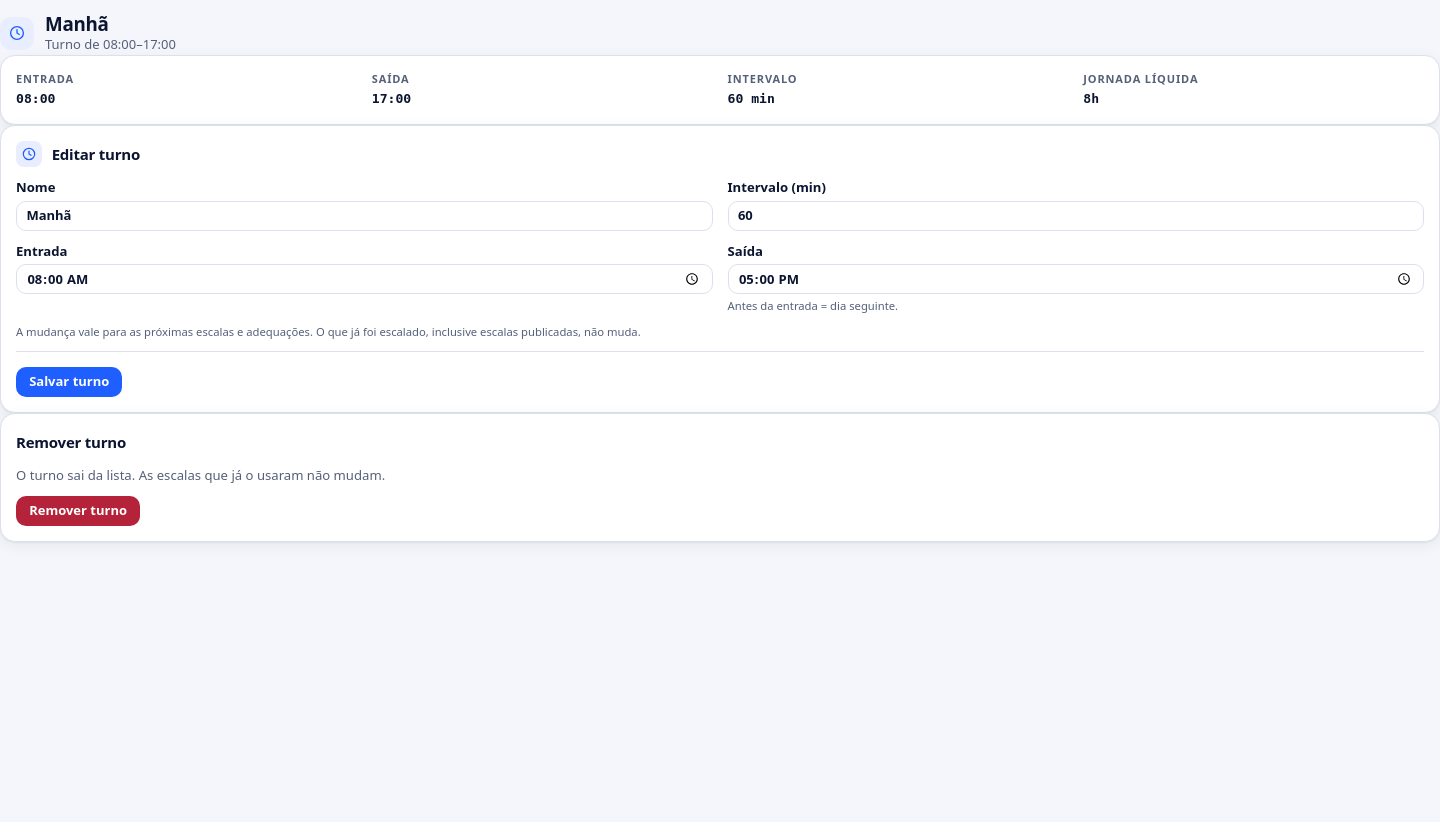
Test: tela do turno › cancelar a remoção não arquiva; erro ao remover aparece na tela
This screenshot has width=1440, height=822.
Click the button "Remover turno" at [78, 511], box [16,496,140,526]
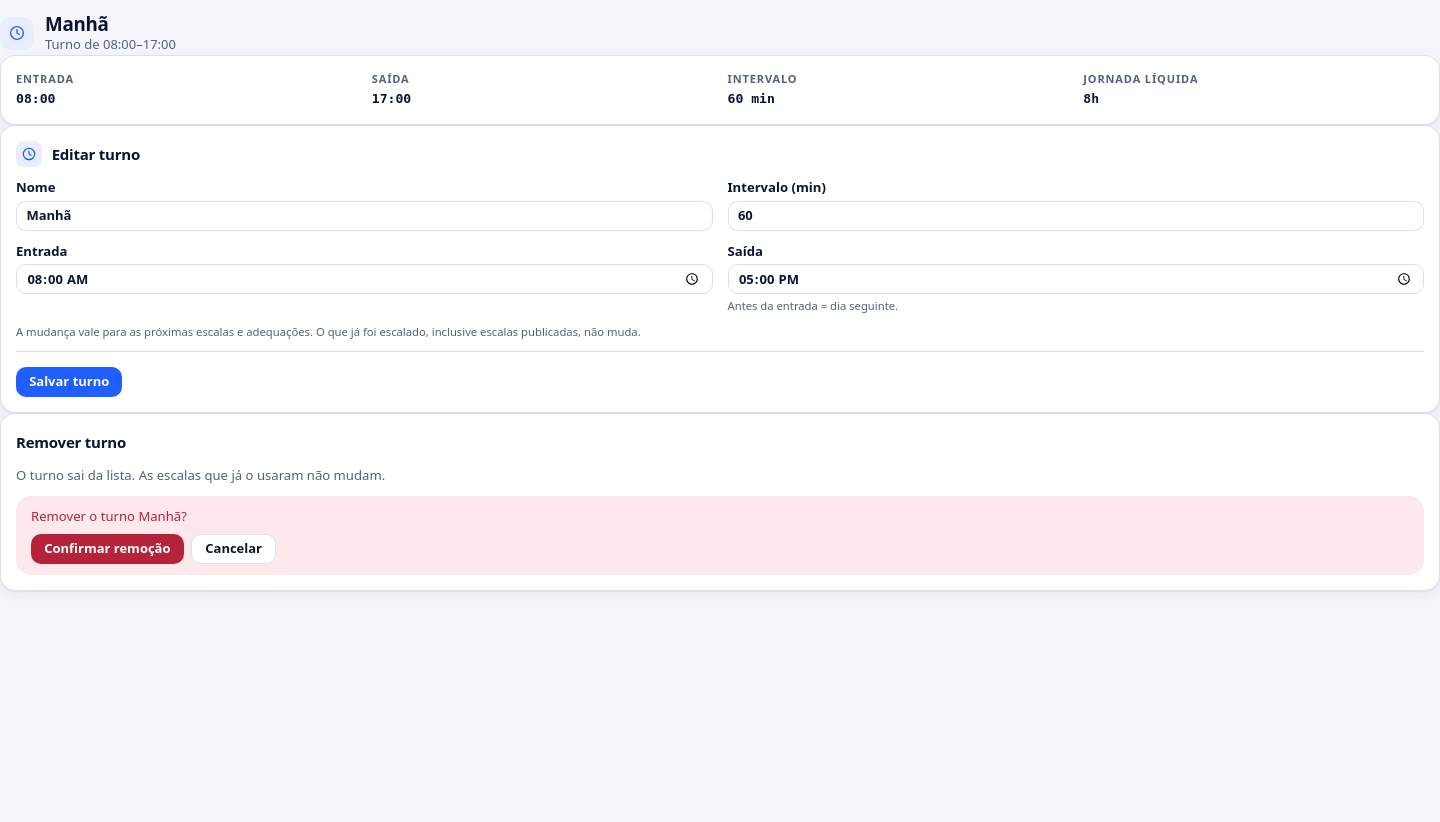
Click the button "Cancelar" at [234, 549], box [191,534,276,564]
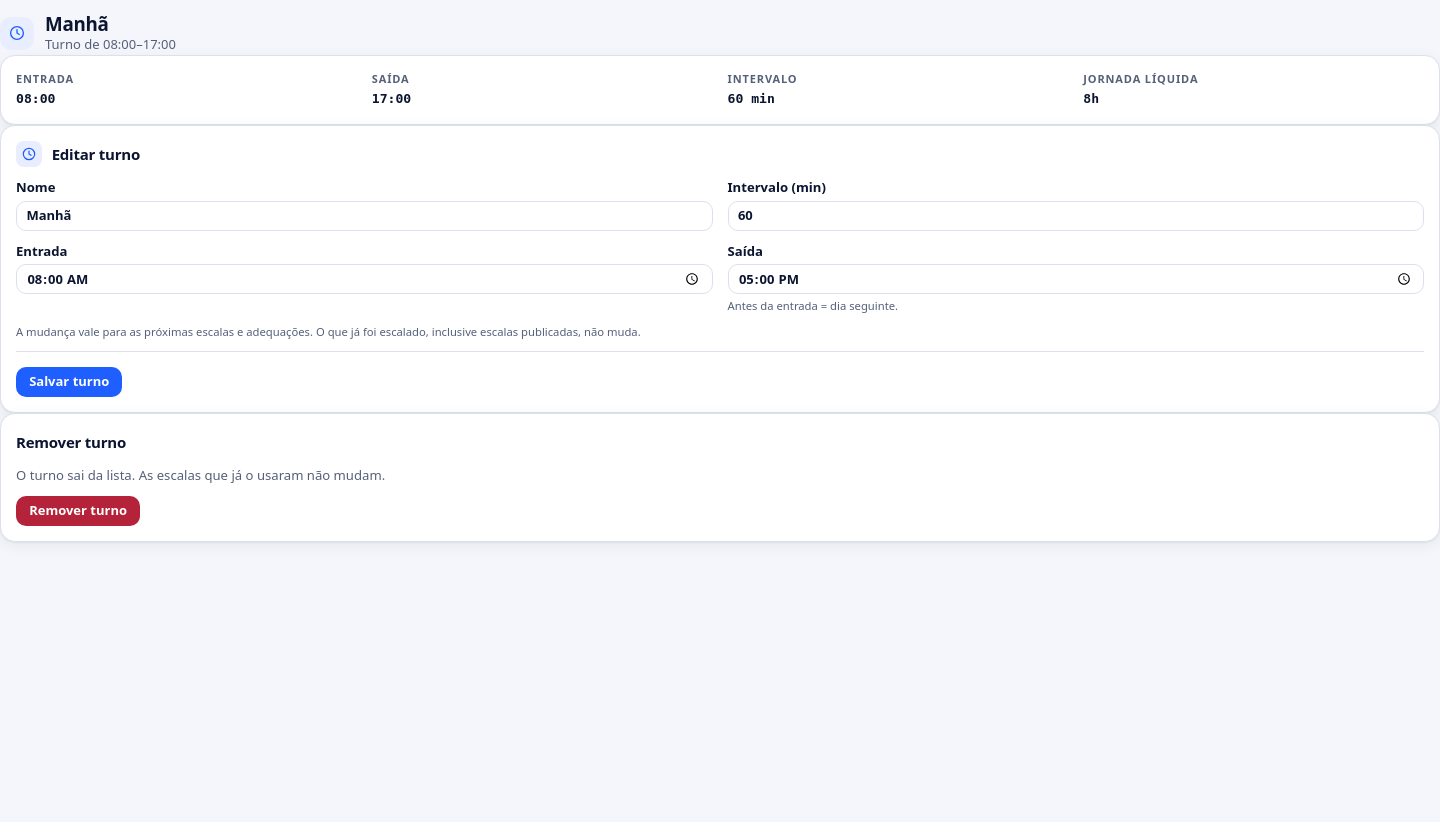
Click the button "Remover turno" at [78, 511], box [16,496,140,526]
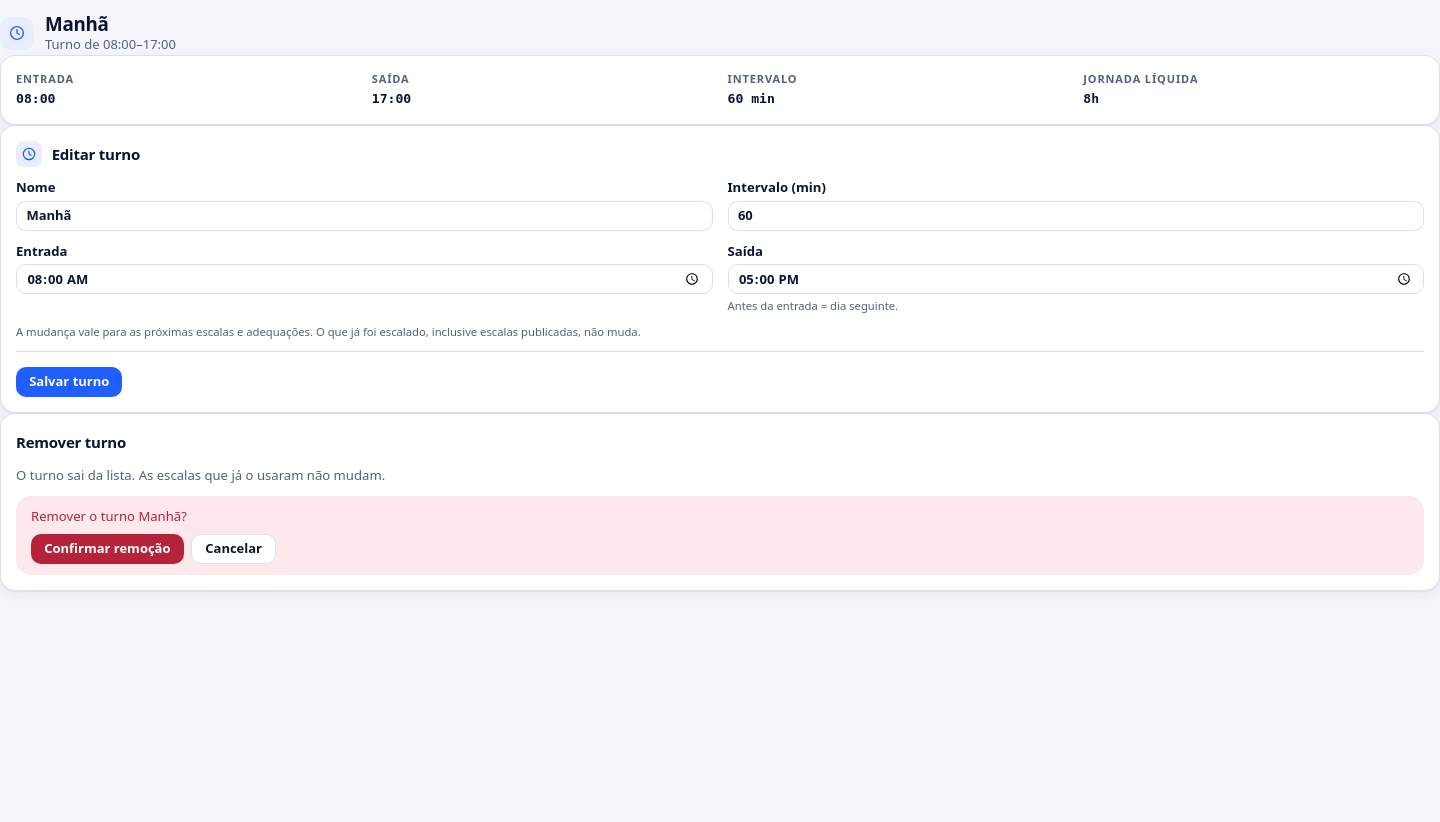
Click the button "Confirmar remoção" at [107, 549], box [31,534,184,564]
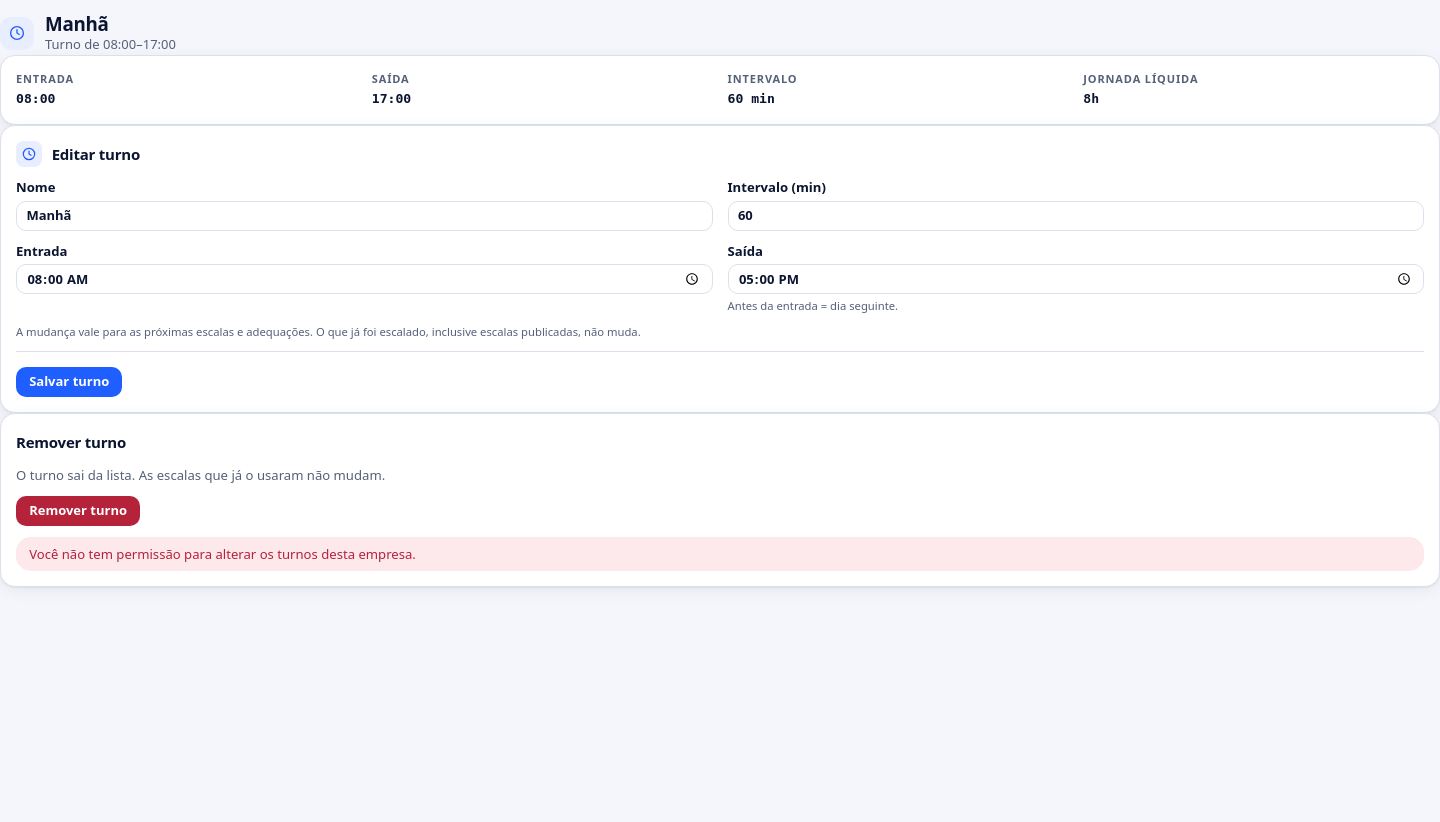
expect the text "Você não tem permissão para alterar os turnos desta empresa." is shown: met, box [16,537,1424,571]
